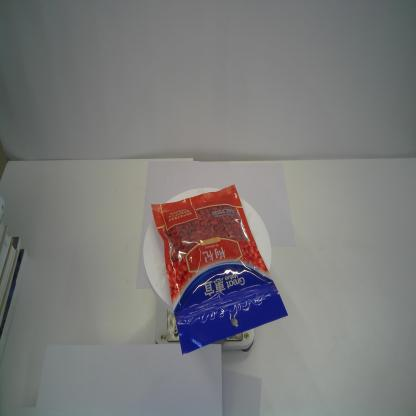Dried Fruit: (150, 183, 289, 357)
